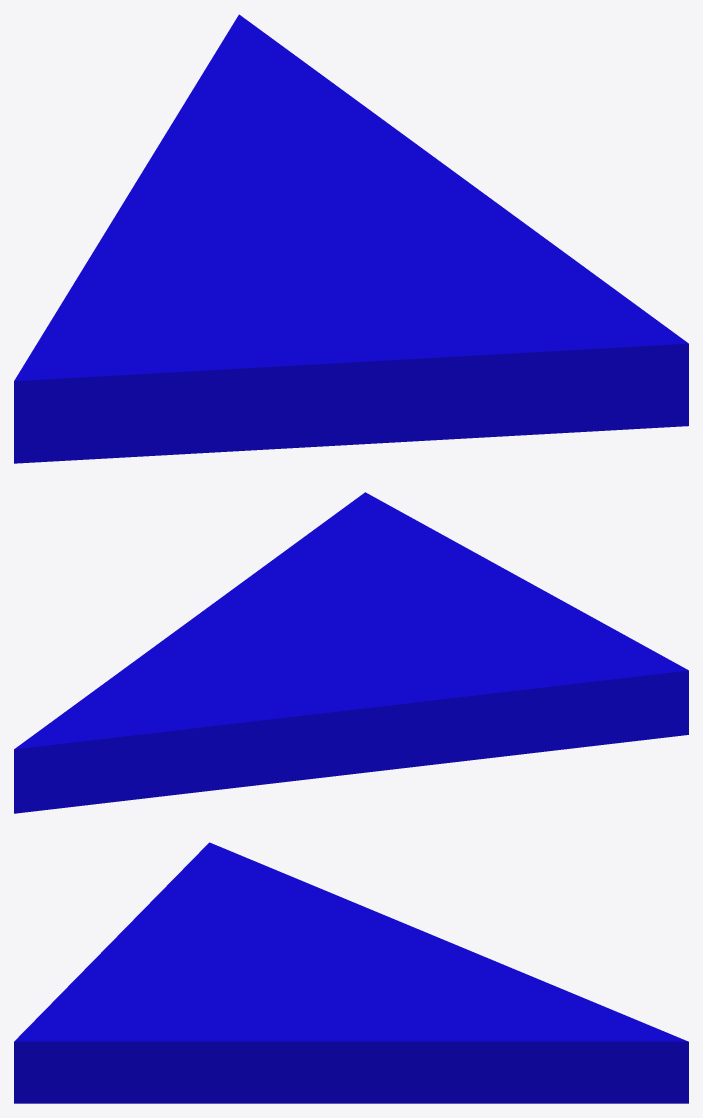
Rendered from Item4.fbx.
3 views of the same model, one above another, from view 1: azimuth 30°, elevation 25°; view 2: azimuth 150°, elevation 25°; view 3: azimuth 270°, elevation 25° (orthographic). The views are drawn at different scales.
Parts seen in each view (by area): view 1: Cylinder.004; view 2: Cylinder.004; view 3: Cylinder.004.
Boxes of the visible parts, bbox=[...] form: Cylinder.004: bbox=[14, 14, 688, 463]; Cylinder.004: bbox=[14, 492, 688, 813]; Cylinder.004: bbox=[14, 842, 688, 1103].
Bounding box in the file's own units: 138 × 20 × 198.
